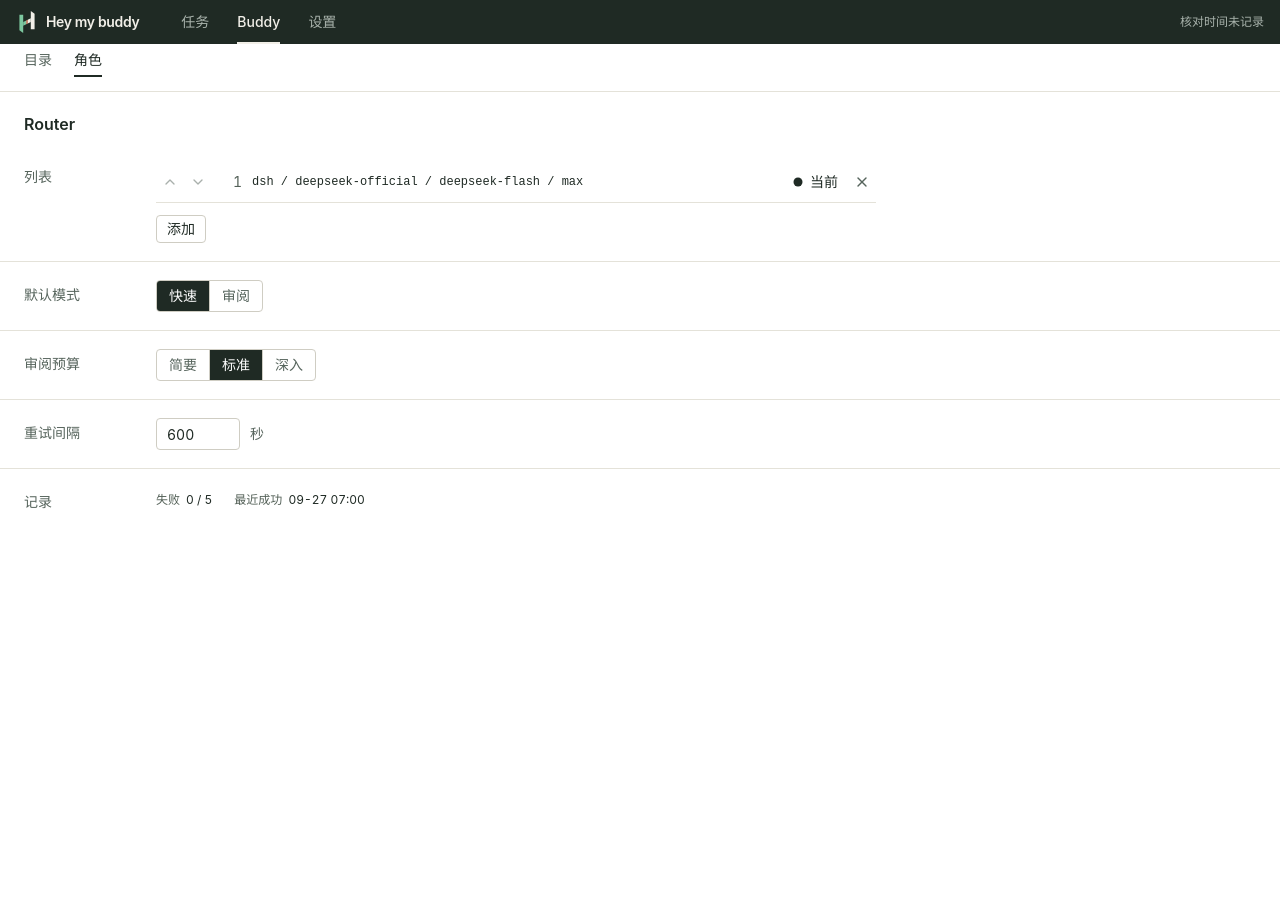
what the list says needs the user › is worked out from the draft: the first buddy is named as soon as the default mode refuses it, and not once it does not
The image size is (1280, 900).
Click the radio button labelled "审阅": (236, 296) x1=209 y1=281 x2=262 y2=311
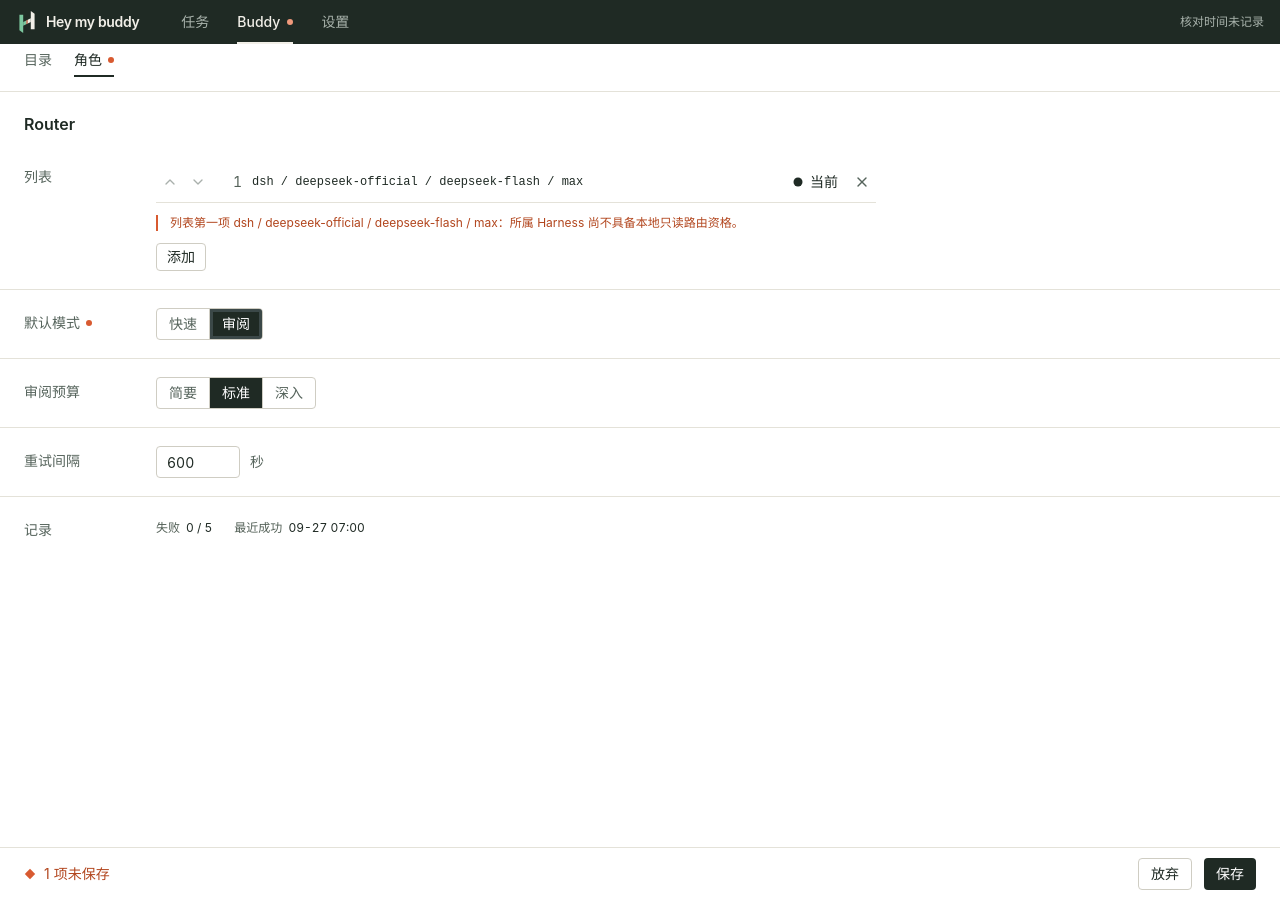
Click the radio button labelled "快速": (183, 324) x1=157 y1=309 x2=209 y2=339
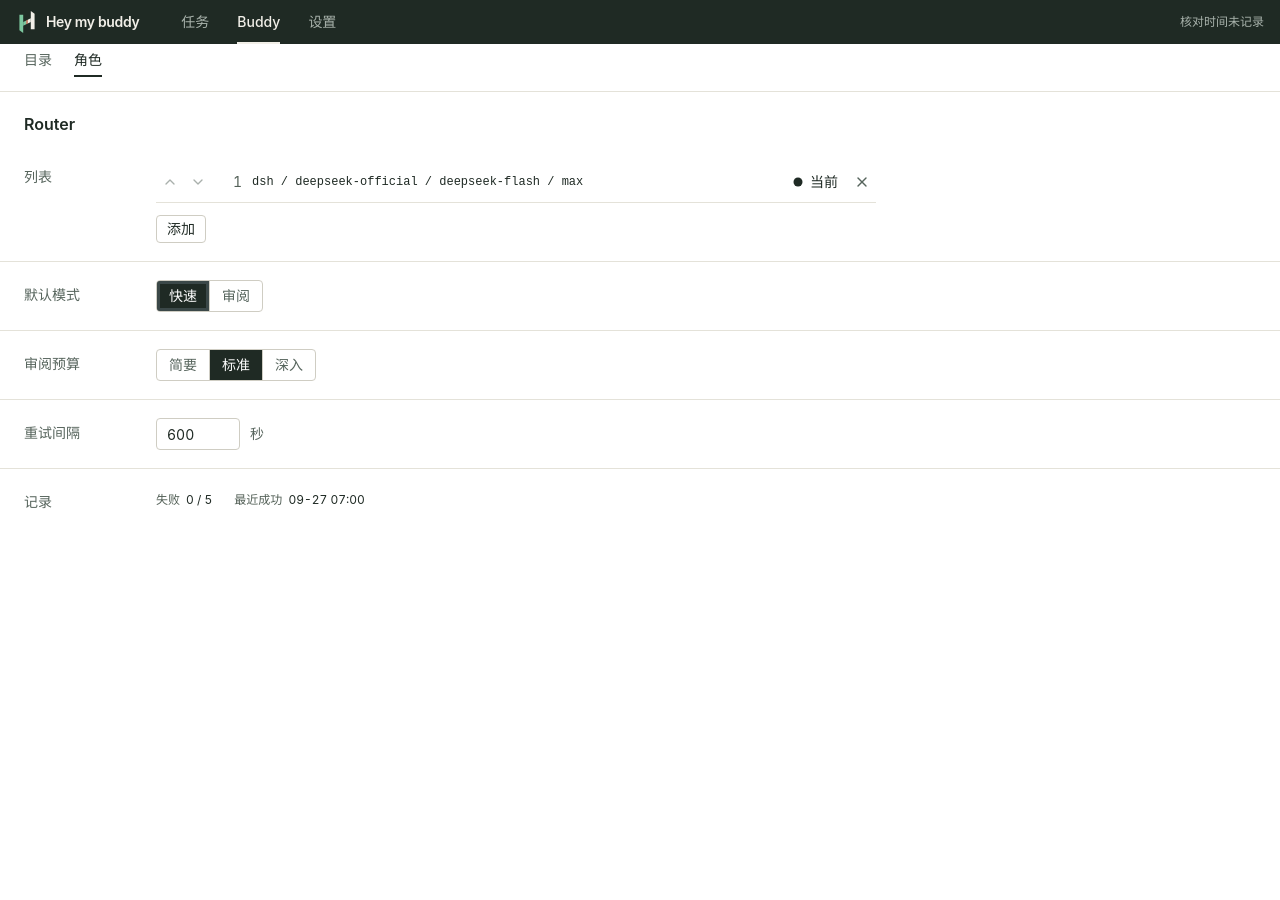
Expected: the message "列表第一项 dsh / deepseek-official / deepseek-flash / max：所属 Harness 尚不具备本地只读路由资格。" is gone
